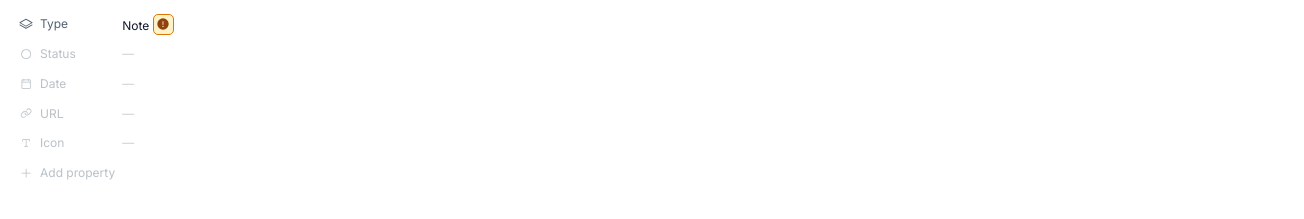
it: DynamicPropertiesPanel › cancels add form on Escape
Click the button "Add property".
click(78, 172)  # box [12,161,1292,185]
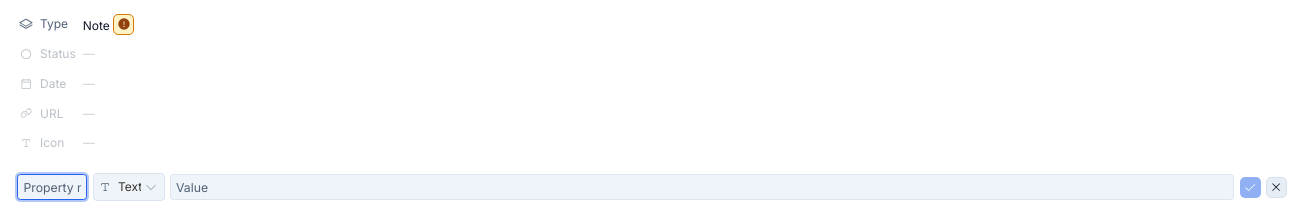
Press Escape in the field with placeholder "Property name", box [17,174,87,200]
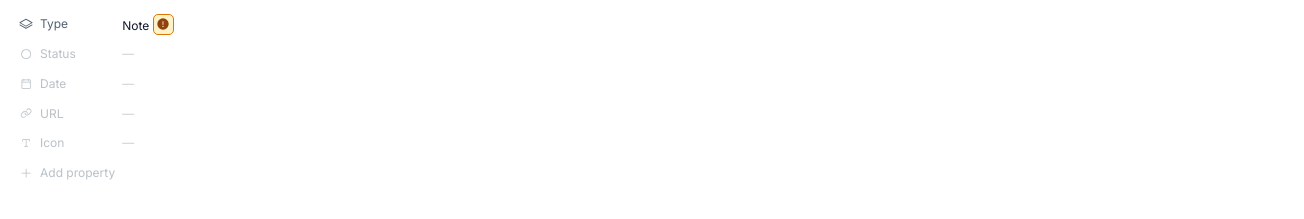
Check: the text "Add property" is shown, box [40,164,115,182]
